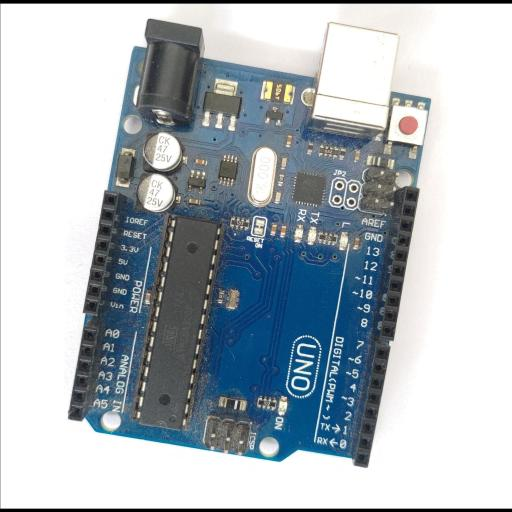Arduino Uno R3: (66, 18, 432, 468)
